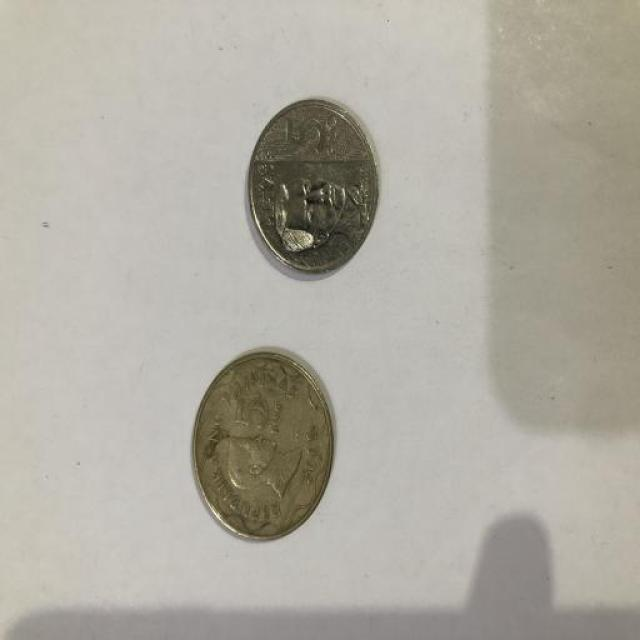5 peso: (241, 92, 384, 283)
5 peso-old: (186, 340, 346, 545)
